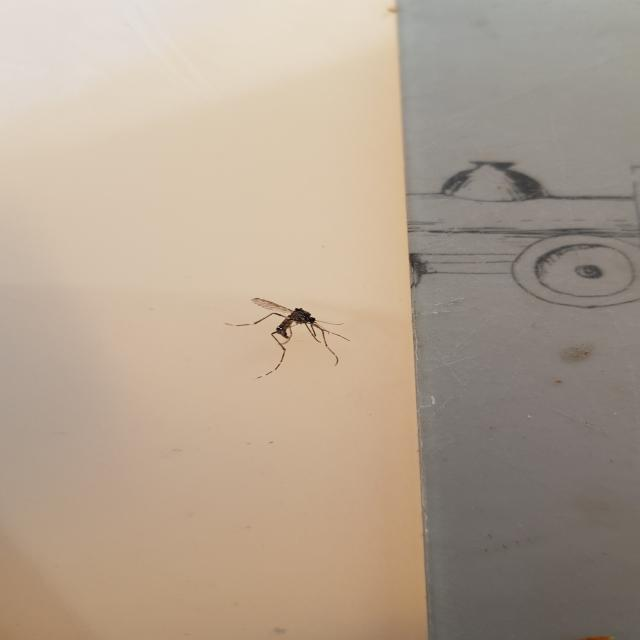albopictus: (216, 296, 358, 380)
